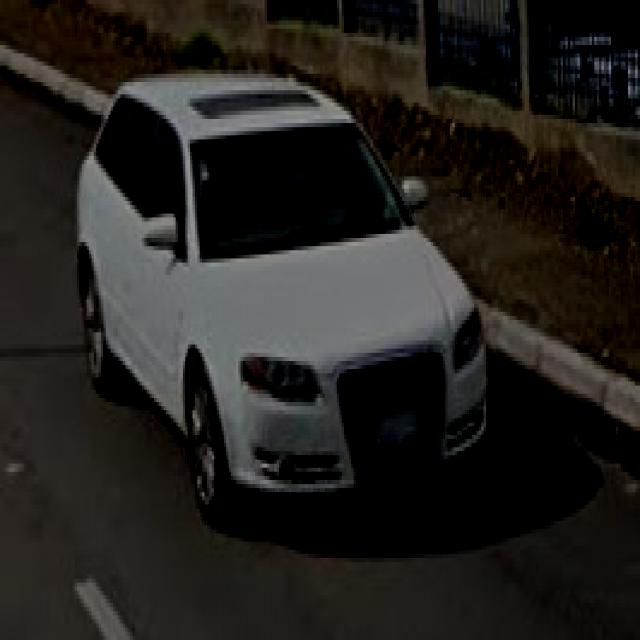car: (79, 67, 494, 523)
